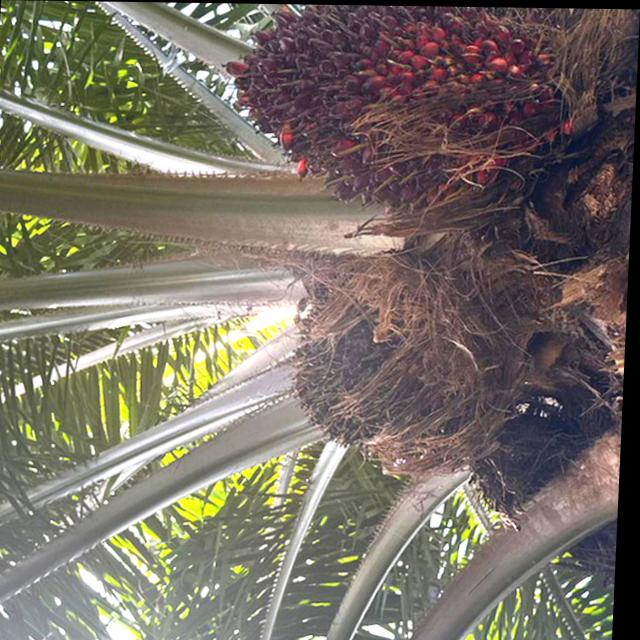unripe: (280, 255, 481, 459)
